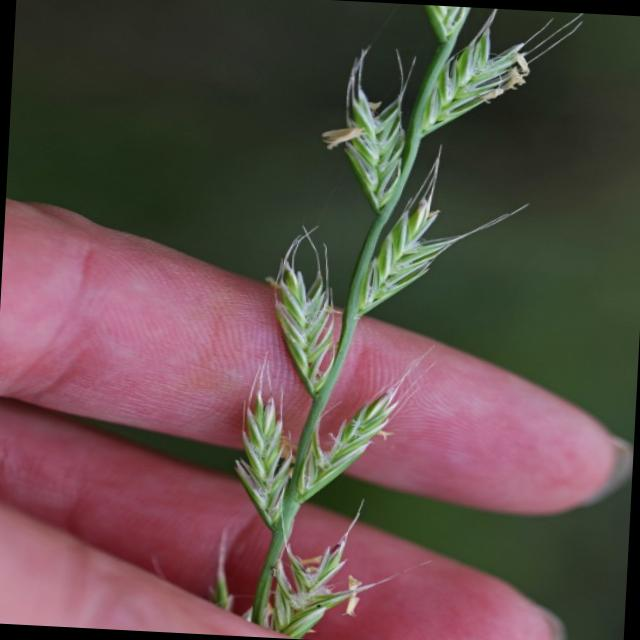Lolium: (207, 0, 588, 640)
